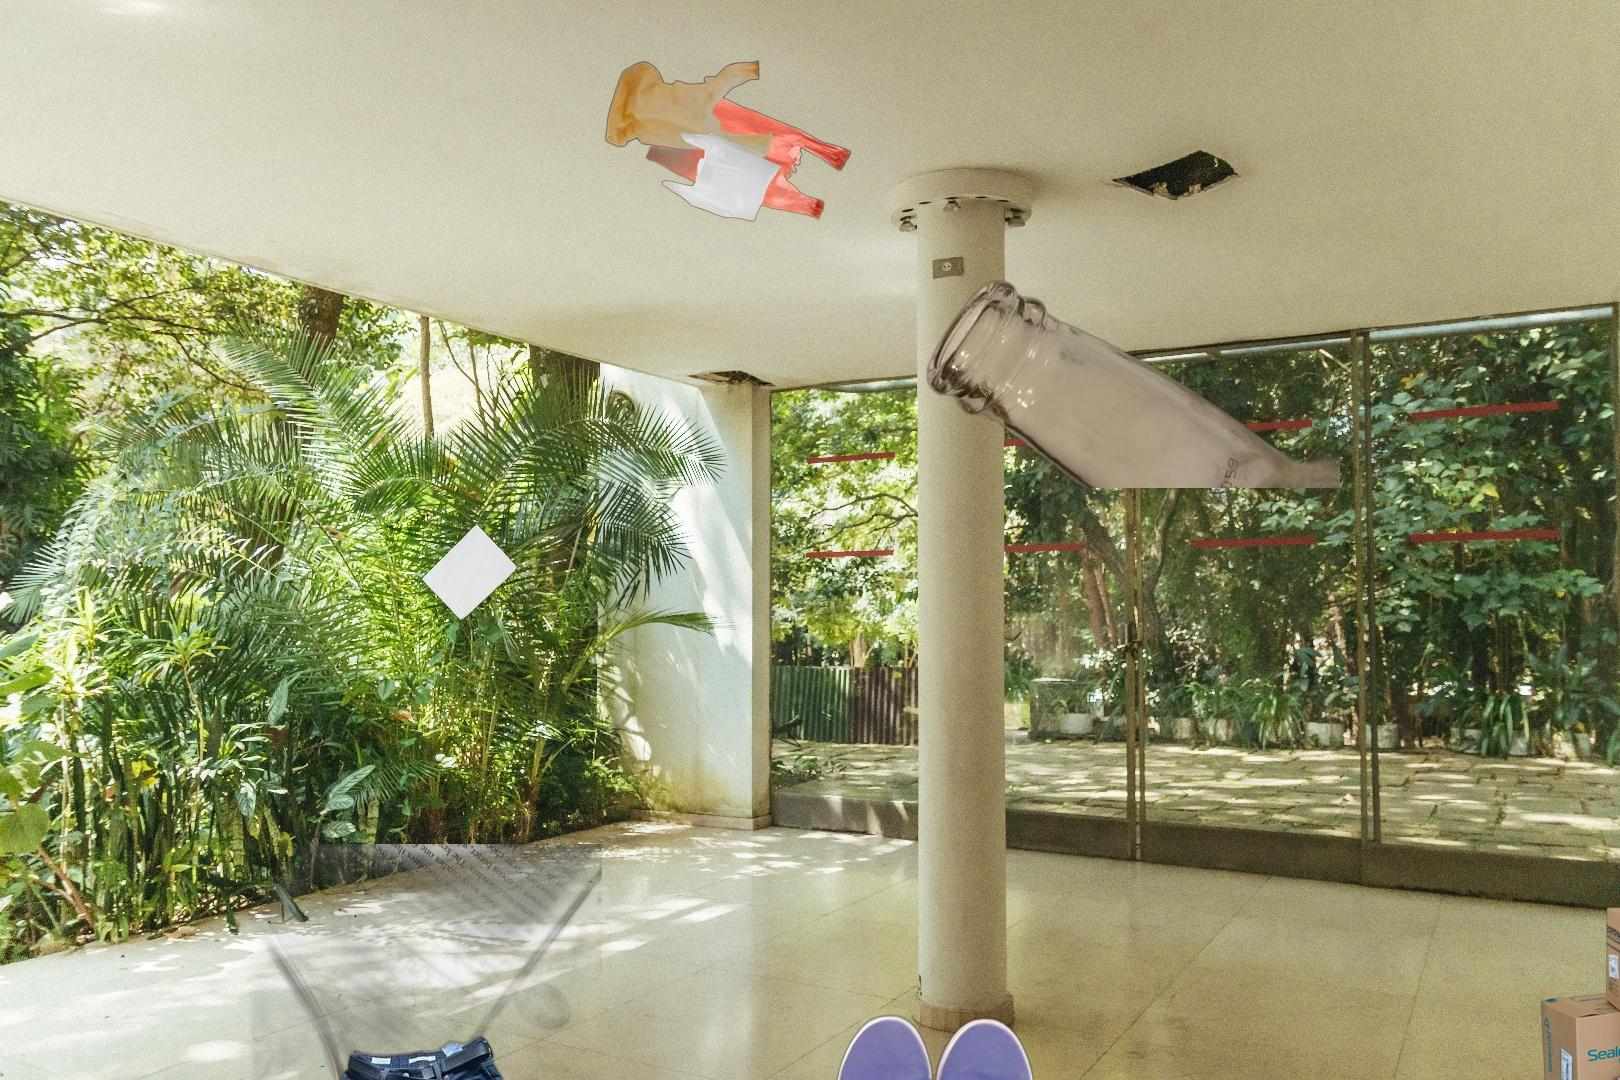clothes: (252, 1032, 601, 1080)
glass: (922, 278, 1340, 488)
paper: (245, 844, 601, 1080)
paper-bag: (419, 521, 518, 621)
plastic-bag: (601, 58, 852, 224)
shoes: (830, 1011, 1039, 1080)
trashbox-cardboard: (1540, 905, 1620, 1080)
